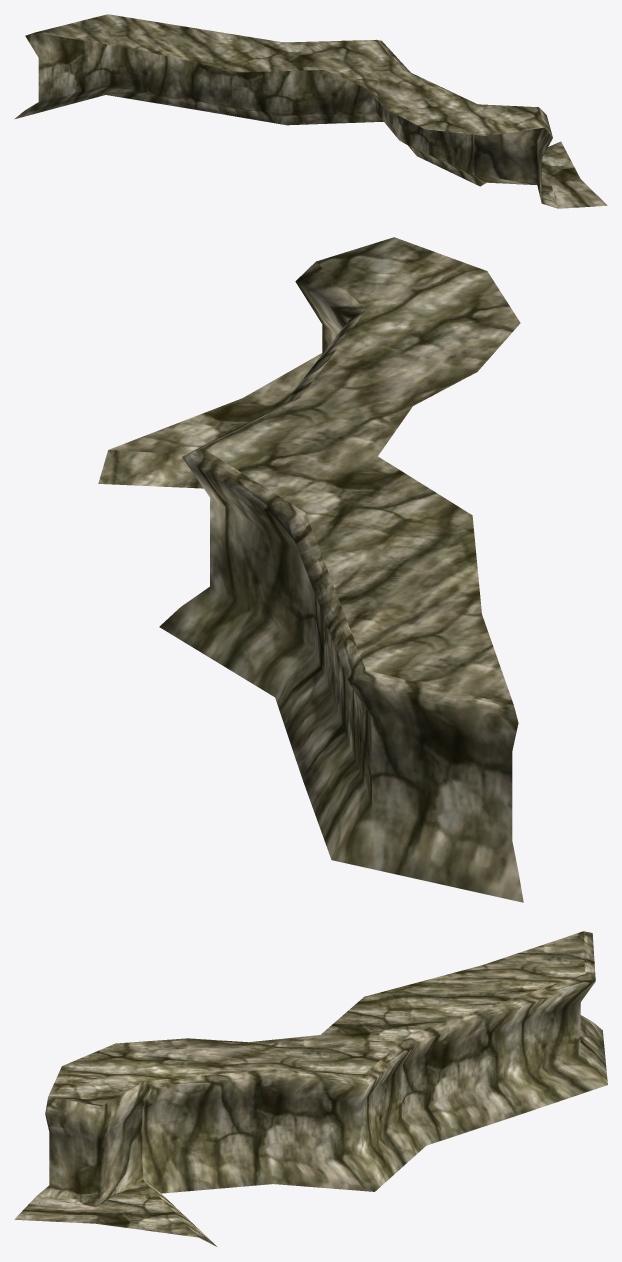
Rendered from CB_NEWPLAYSURFACE_CB_PLAYSURFACE107.fbx.
The picture shows the model from 3 angles, top to bottom: view 1: azimuth 30°, elevation 25°; view 2: azimuth 150°, elevation 25°; view 3: azimuth 270°, elevation 25°; orthographic projection. The views are drawn at different scales.
Visible parts, largest first — view 1: CB_NEWPLAYSURFACE_CB_PLAYSURFACE107; view 2: CB_NEWPLAYSURFACE_CB_PLAYSURFACE107; view 3: CB_NEWPLAYSURFACE_CB_PLAYSURFACE107.
Boxes of the visible parts, x1,y1,x2,y2 form: CB_NEWPLAYSURFACE_CB_PLAYSURFACE107: [14, 14, 607, 208]; CB_NEWPLAYSURFACE_CB_PLAYSURFACE107: [98, 237, 523, 902]; CB_NEWPLAYSURFACE_CB_PLAYSURFACE107: [14, 931, 607, 1246].
Bounding box in the file's own units: 178825 × 40600 × 204716.
Materials: 2 (2 with a texture image).
